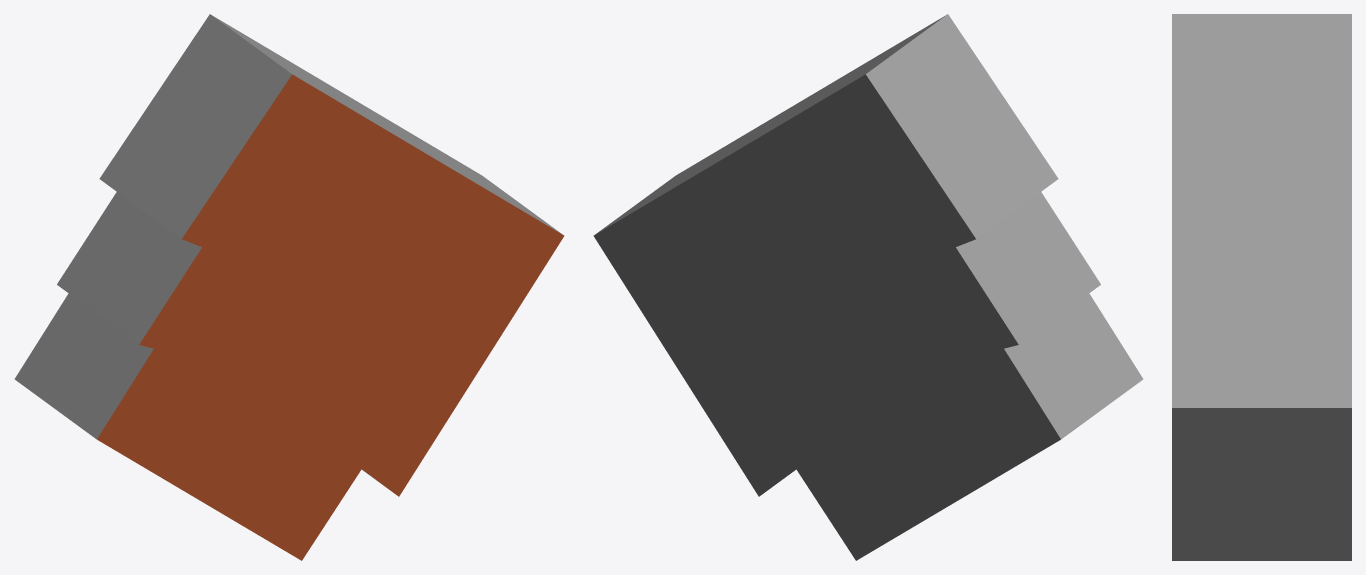
File: construction_5652_assumed_A_Casa_h6m.obj
3 renders of one model, left to right at view 1: azimuth 30°, elevation 25°; view 2: azimuth 150°, elevation 25°; view 3: azimuth 270°, elevation 25°, orthographic. The views are drawn at different scales.
Parts seen in each view (by area): view 1: construction_5652_assumed_A_Casa; view 2: construction_5652_assumed_A_Casa; view 3: construction_5652_assumed_A_Casa.
Part boxes in pixels (box(x1,y1,x2,y2)): construction_5652_assumed_A_Casa: box(14, 14, 564, 560); construction_5652_assumed_A_Casa: box(593, 14, 1143, 560); construction_5652_assumed_A_Casa: box(1172, 14, 1351, 560).
Size of the model in its own units: 19.67 by 19.66 by 6.
